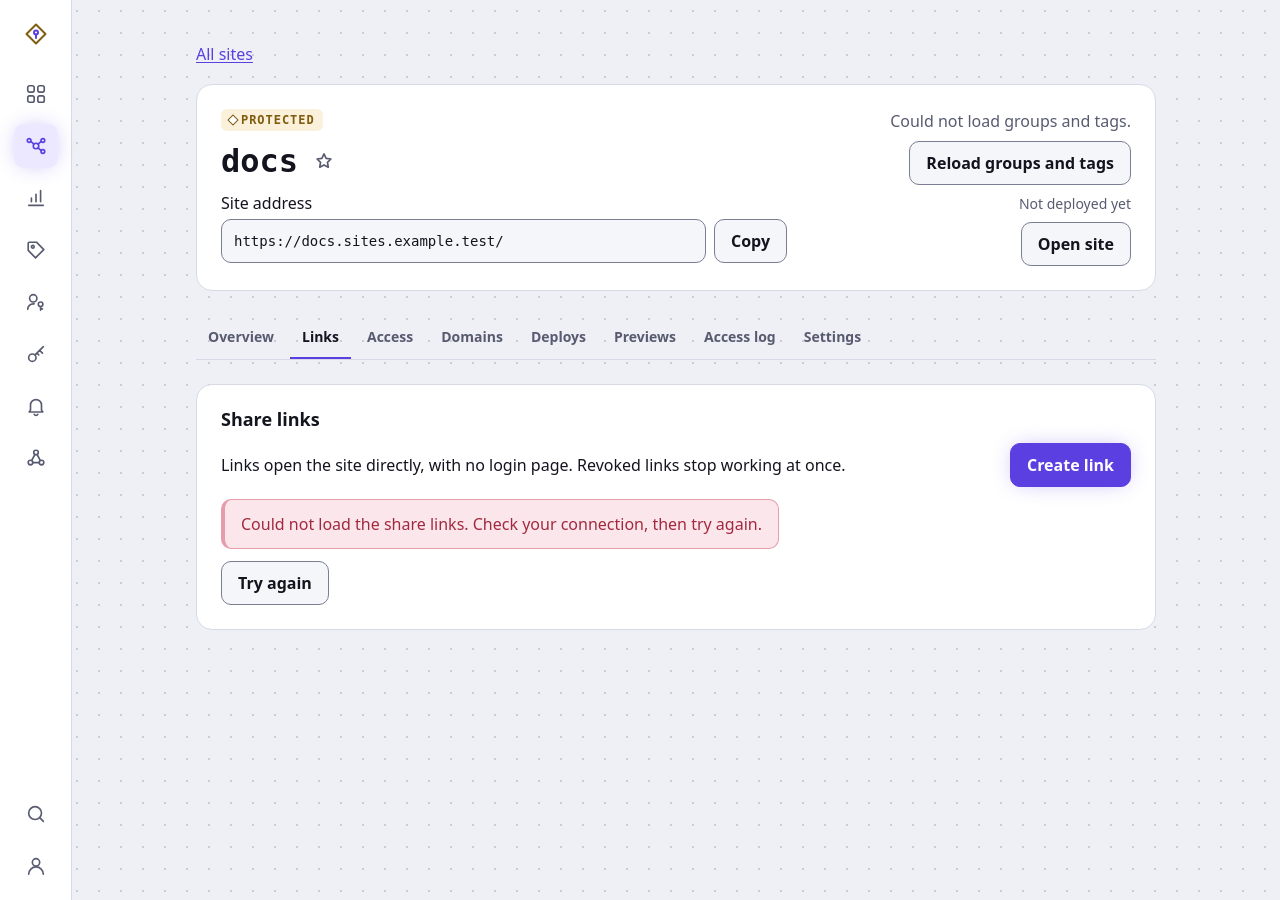
Test case: share links on the site page › shows an empty state and a retry after a failed load
Check: the text "Could not load the share links. Check your connection, then try again." is shown, box x1=221 y1=499 x2=779 y2=549
Click the button "Try again": (275, 583) x1=221 y1=561 x2=329 y2=605
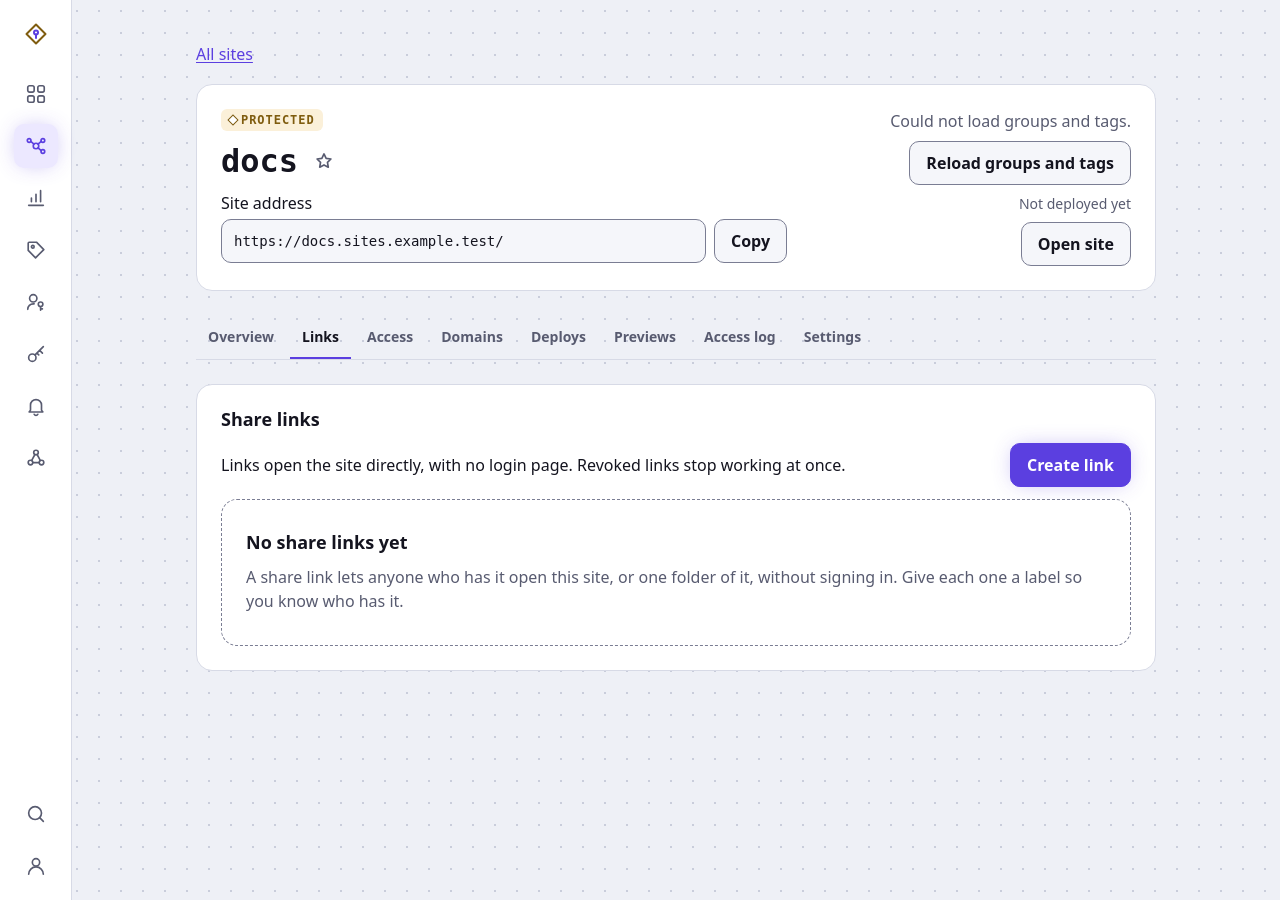
Check: the heading "No share links yet" is shown, box x1=246 y1=532 x2=408 y2=553
